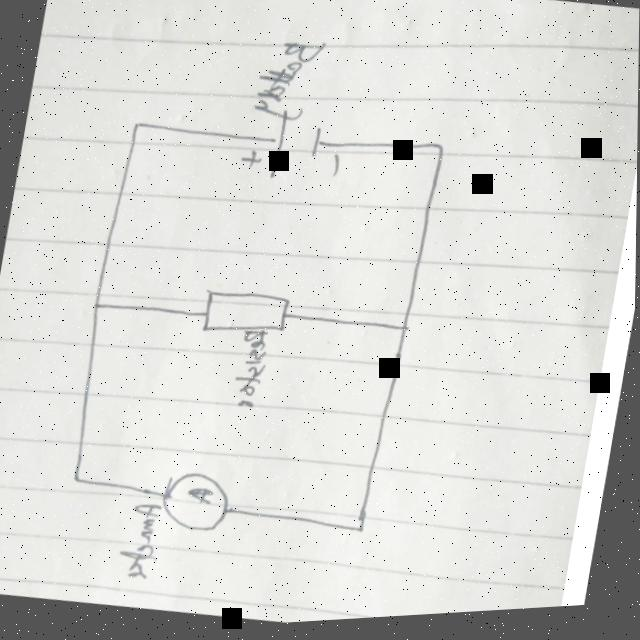junction: (127, 117, 151, 137), (426, 142, 450, 162), (391, 323, 415, 343), (88, 296, 111, 316), (67, 470, 90, 490), (349, 523, 372, 543)
resistor: (197, 285, 295, 348)
source: (233, 99, 352, 205)
text: (247, 34, 330, 132), (112, 499, 167, 586), (226, 329, 274, 415)
